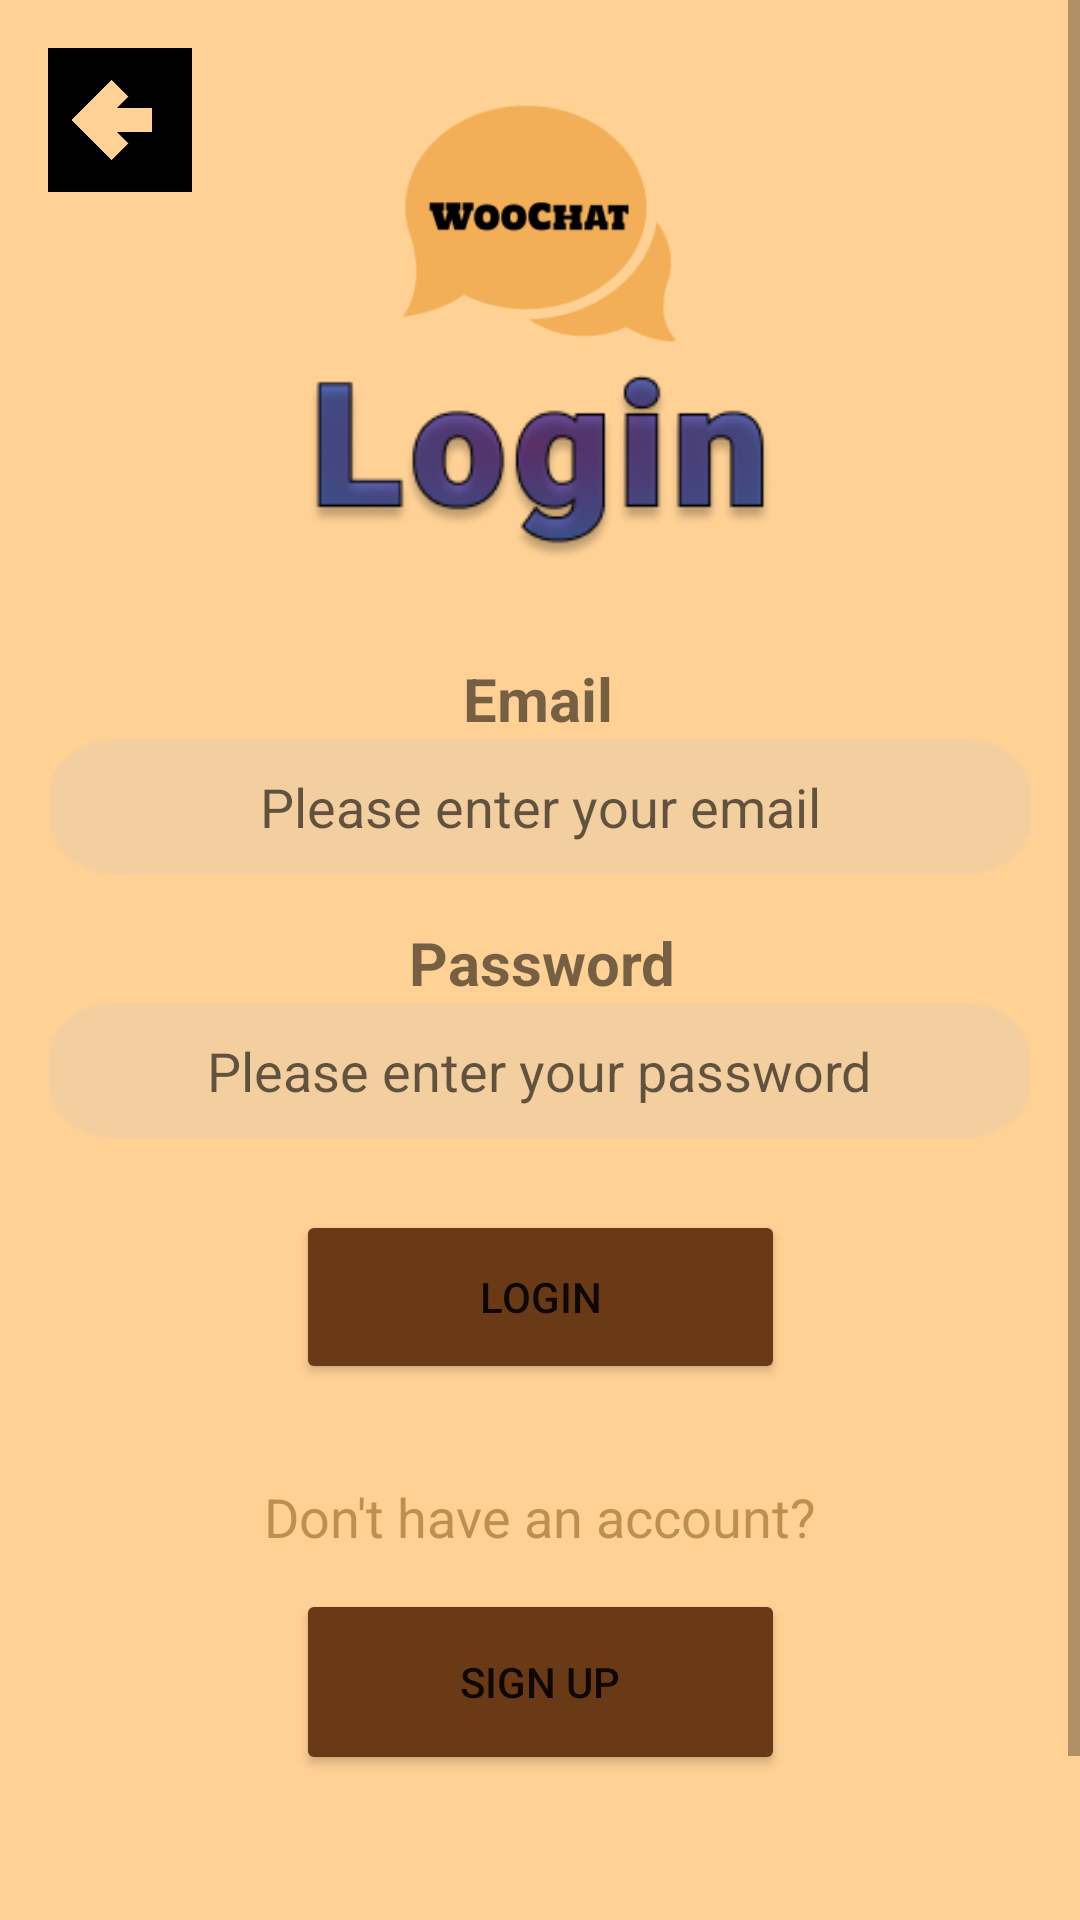

Where icons sit on this 1080×1920 app screen, as (x1, y1, x2, y2):
back arrow: (48, 48, 192, 192)
